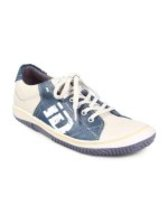shoes: (10, 63, 159, 160)
